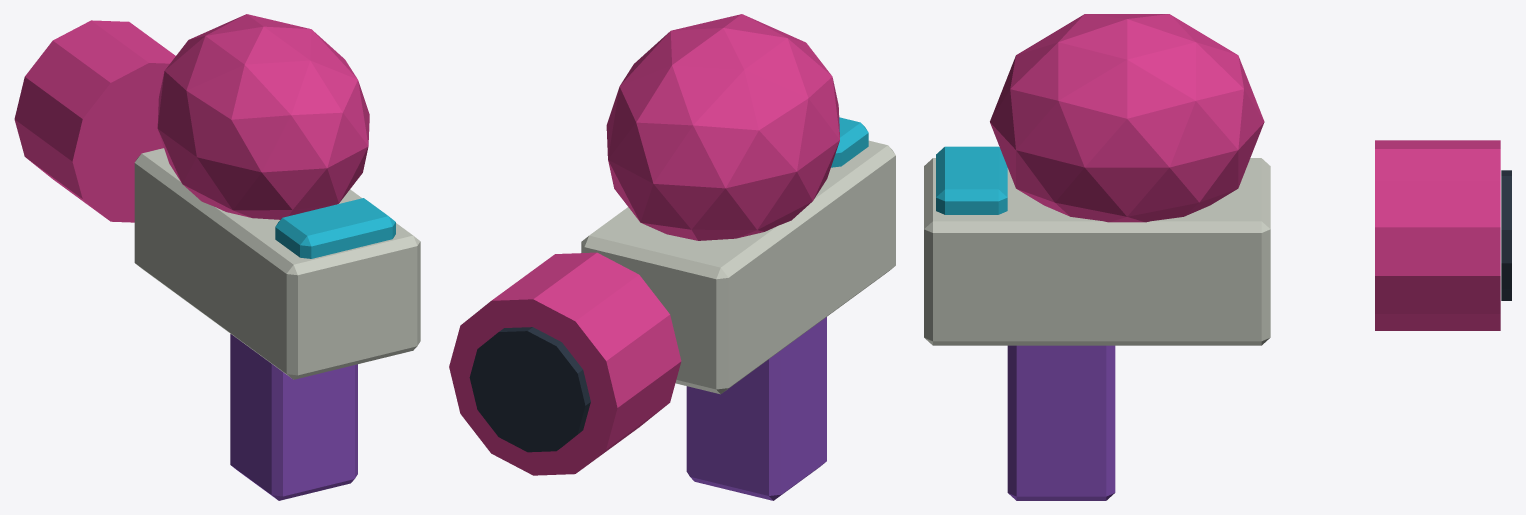
Rendered from valuation-bubble.glb.
3 views of the same model, side by side, from view 1: azimuth 30°, elevation 25°; view 2: azimuth 150°, elevation 25°; view 3: azimuth 270°, elevation 25° (orthographic). The views are drawn at different scales.
Visible parts, largest first — view 1: valuation-bubble_Body, valuation-bubble_Mechanism; view 2: valuation-bubble_Body, valuation-bubble_Mechanism; view 3: valuation-bubble_Body, valuation-bubble_Mechanism.
Part boxes in pixels (bbox=[...]): valuation-bubble_Body: bbox=[14, 14, 420, 500]; valuation-bubble_Mechanism: bbox=[275, 198, 395, 258]; valuation-bubble_Body: bbox=[449, 14, 895, 500]; valuation-bubble_Mechanism: bbox=[831, 117, 868, 167]; valuation-bubble_Body: bbox=[924, 14, 1511, 500]; valuation-bubble_Mechanism: bbox=[936, 146, 1007, 214].
Bounding box in the file's own units: 0.3614 × 0.855 × 0.984.
